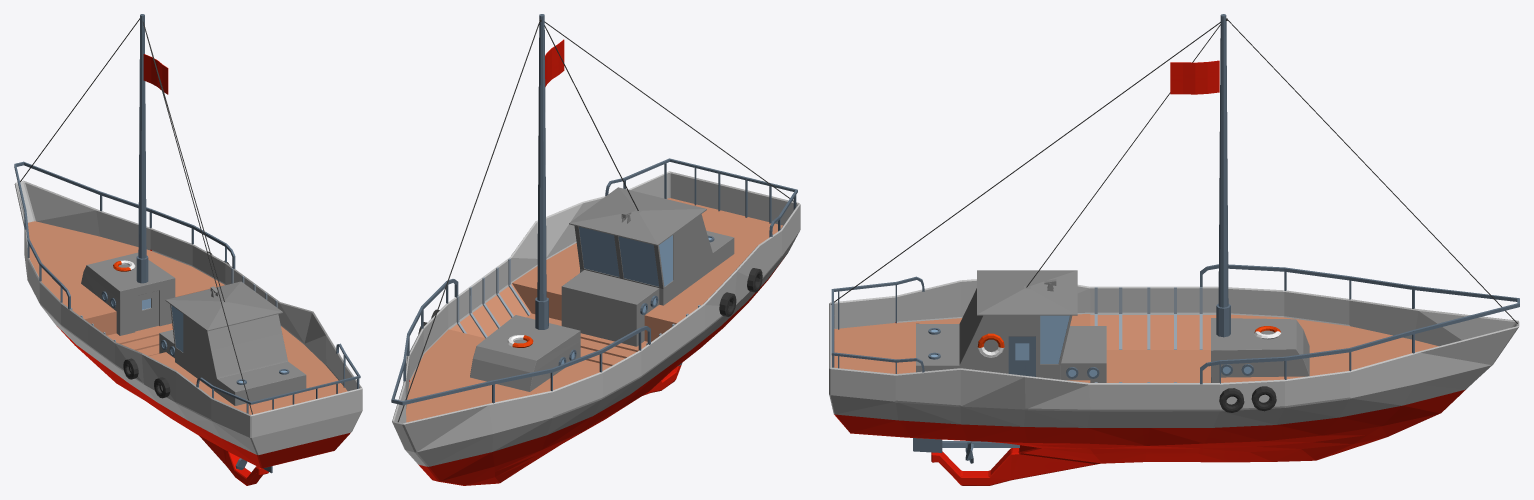
File: ship.fbx
3 renders of one model, left to right at view 1: azimuth 30°, elevation 25°; view 2: azimuth 150°, elevation 25°; view 3: azimuth 270°, elevation 25°, orthographic. The views are drawn at different scales.
Visible parts, largest first — view 1: ship, ship_flag; view 2: ship, ship_flag; view 3: ship, ship_flag, ship_door.
Boxes of the visible parts, <box> form: ship: <box>14,14,362,485</box>; ship_flag: <box>143,54,168,94</box>; ship: <box>391,14,800,485</box>; ship_flag: <box>545,39,564,86</box>; ship: <box>829,14,1519,485</box>; ship_flag: <box>1170,60,1219,94</box>; ship_door: <box>1008,336,1035,376</box>.
Bounding box in the file's own units: 9.95 × 20.96 × 28.03.
